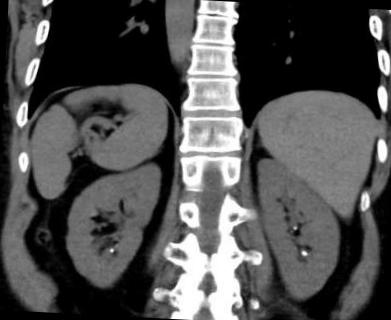Tas_Var: (300, 250, 308, 258), (107, 248, 115, 254), (291, 224, 299, 230), (288, 230, 294, 233)
